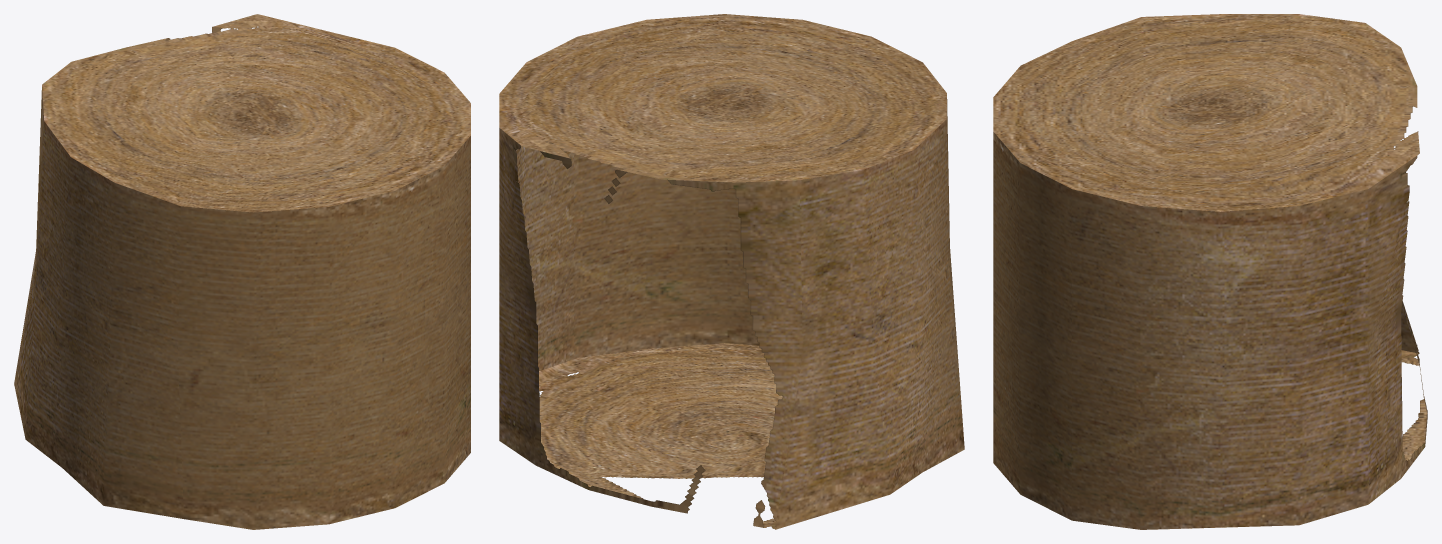
Rendered from OU_AR_Hay_Bale_01_D.fbx.
3 renders of one model, left to right at view 1: azimuth 30°, elevation 25°; view 2: azimuth 150°, elevation 25°; view 3: azimuth 270°, elevation 25°, orthographic. The views are drawn at different scales.
Parts seen in each view (by area): view 1: OU_AR_Hay_Bale; view 2: OU_AR_Hay_Bale; view 3: OU_AR_Hay_Bale.
Part boxes in pixels (x1,y1,x2,y2): OU_AR_Hay_Bale: (14, 14, 470, 529); OU_AR_Hay_Bale: (499, 14, 964, 529); OU_AR_Hay_Bale: (993, 14, 1427, 529).
Size of the model in its own units: 153 by 128 by 144.
Materials: 1 (1 with a texture image).
